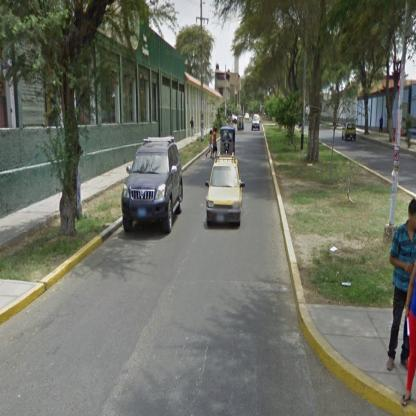Peaton: (388, 200, 416, 371), (206, 131, 214, 159), (213, 129, 218, 160), (190, 118, 195, 138)
Pista: (1, 243, 318, 416)
Vehiculo: (122, 138, 184, 234), (206, 153, 246, 228), (221, 127, 237, 156), (252, 117, 261, 132), (238, 117, 245, 132)
